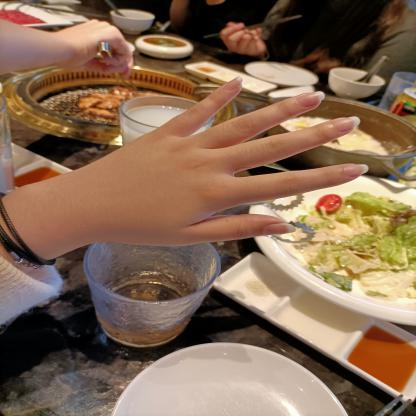bare_hand: (66, 70, 382, 251)
